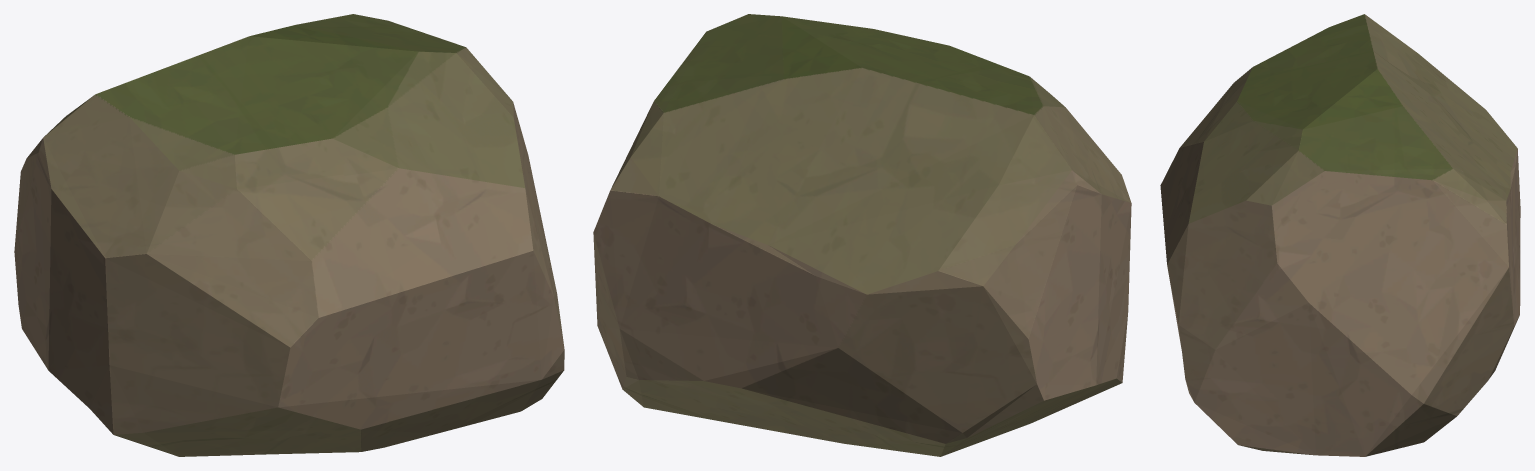
The model's file is SM_Env_Rock_03.glb.
3 renders of one model, left to right at view 1: azimuth 30°, elevation 25°; view 2: azimuth 150°, elevation 25°; view 3: azimuth 270°, elevation 25°, orthographic. The views are drawn at different scales.
Visible parts, largest first — view 1: SM_Env_Rock_03; view 2: SM_Env_Rock_03; view 3: SM_Env_Rock_03.
Part boxes in pixels (box(x1,y1,x2,y2)): SM_Env_Rock_03: box(14, 14, 564, 456); SM_Env_Rock_03: box(593, 14, 1131, 456); SM_Env_Rock_03: box(1160, 14, 1520, 456).
Size of the model in its own units: 2.86 by 2.18 by 2.38.
1 material, 1 textured.
